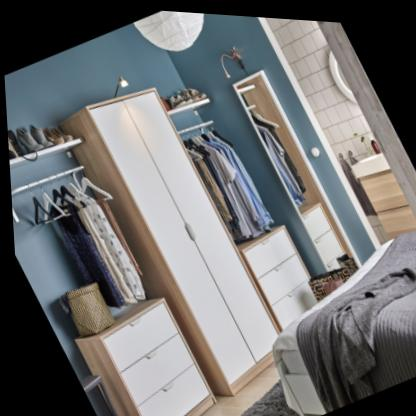Bed: (268, 224, 416, 416)
Closet: (59, 86, 277, 394)
Sideboard: (72, 297, 212, 416), (232, 222, 314, 330)
